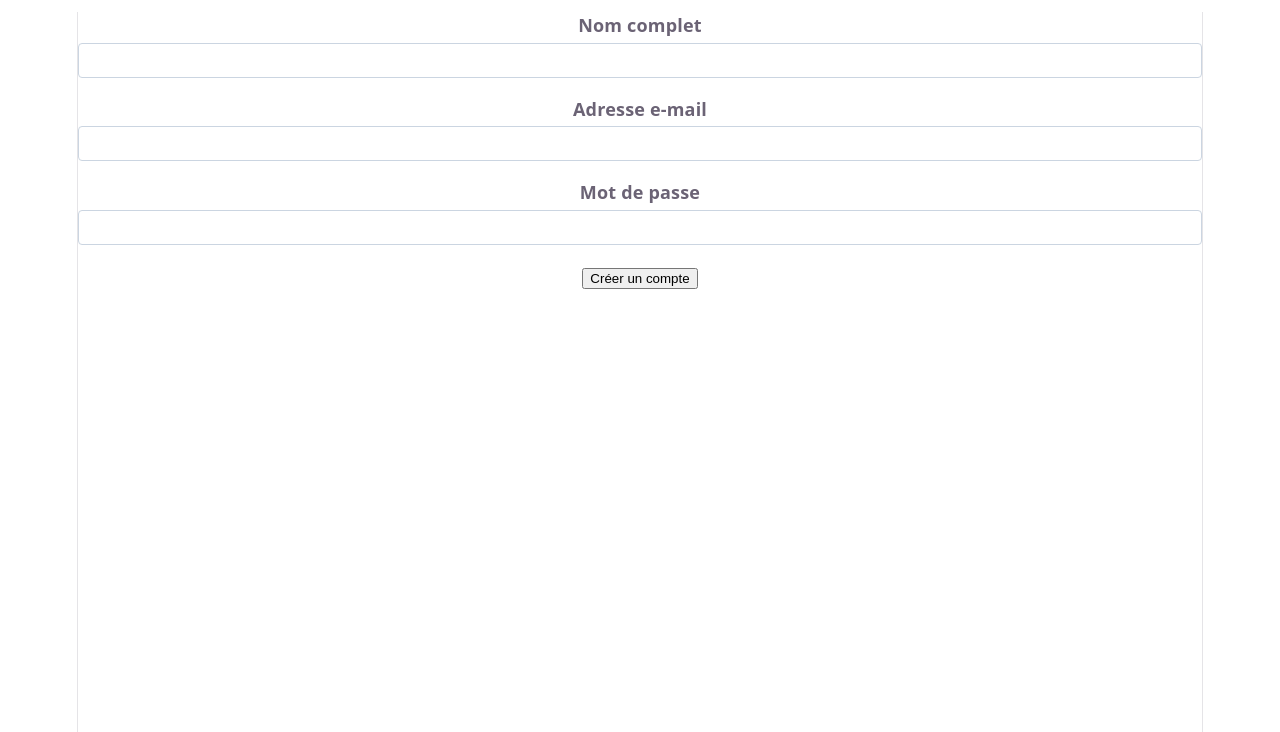
Scenario: 05-forms-zod-validation : Formulaires React Hook Form + Zod › doit bloquer la soumission et afficher les erreurs Zod si les champs sont invalides
The image size is (1280, 732).
Type "A" into the field labelled "Nom complet" at (640, 60), box 78,43 -> 1202,78
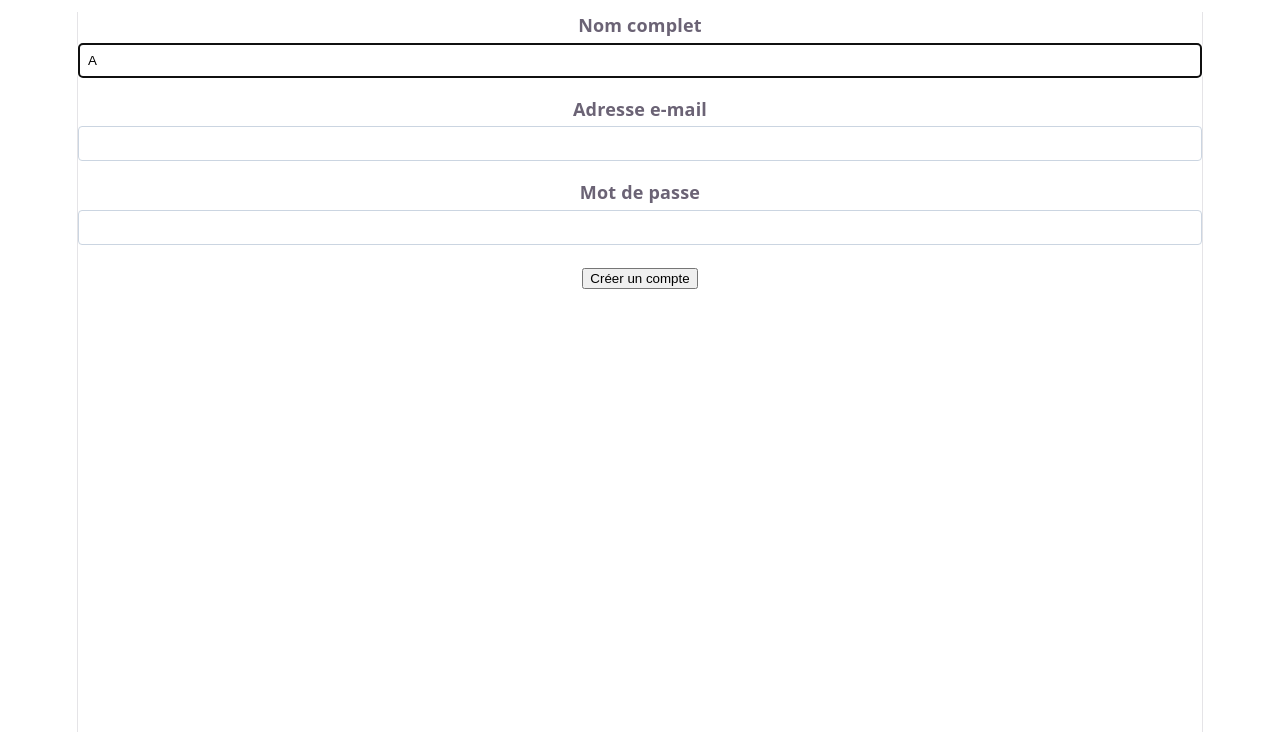
Type "email-invalide" into the field labelled "Adresse e-mail" at (640, 144), box 78,126 -> 1202,161
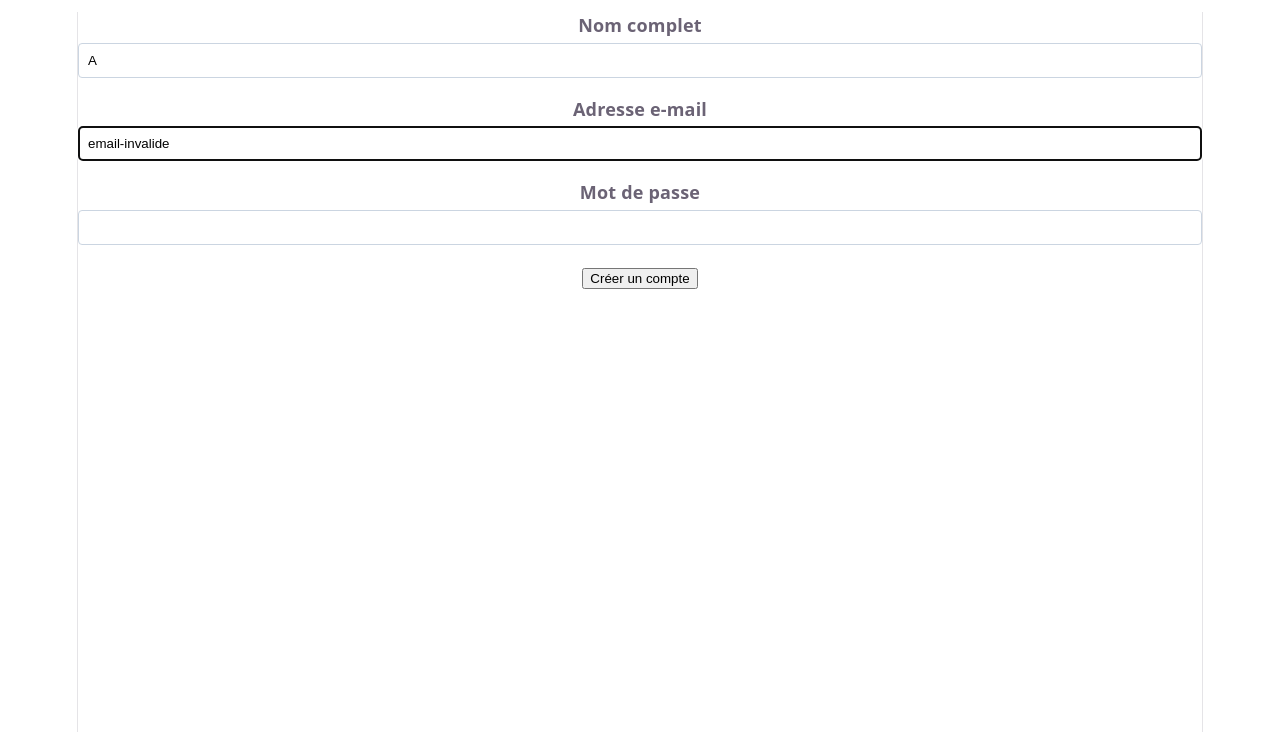
Type "123" into the password field labelled "Mot de passe" at (640, 227), box 78,210 -> 1202,245
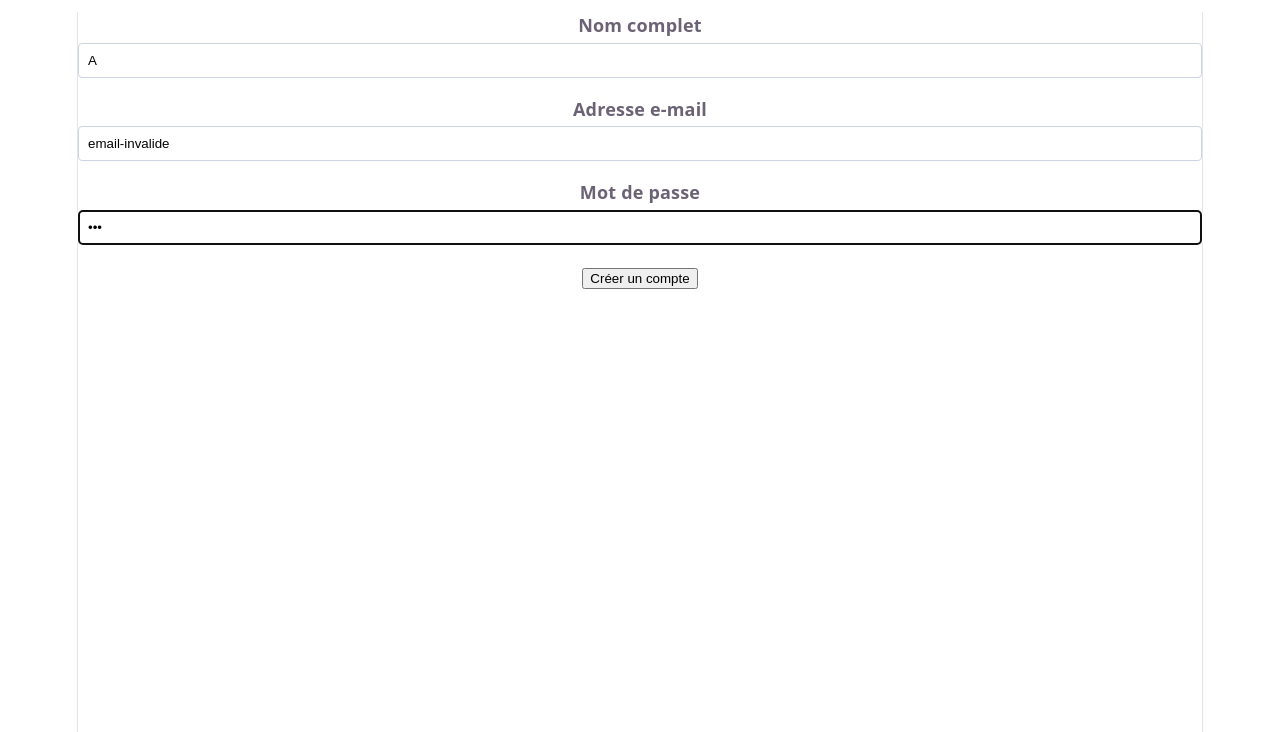
Click the button "Créer un compte" at (640, 278), box 582,268 -> 698,289
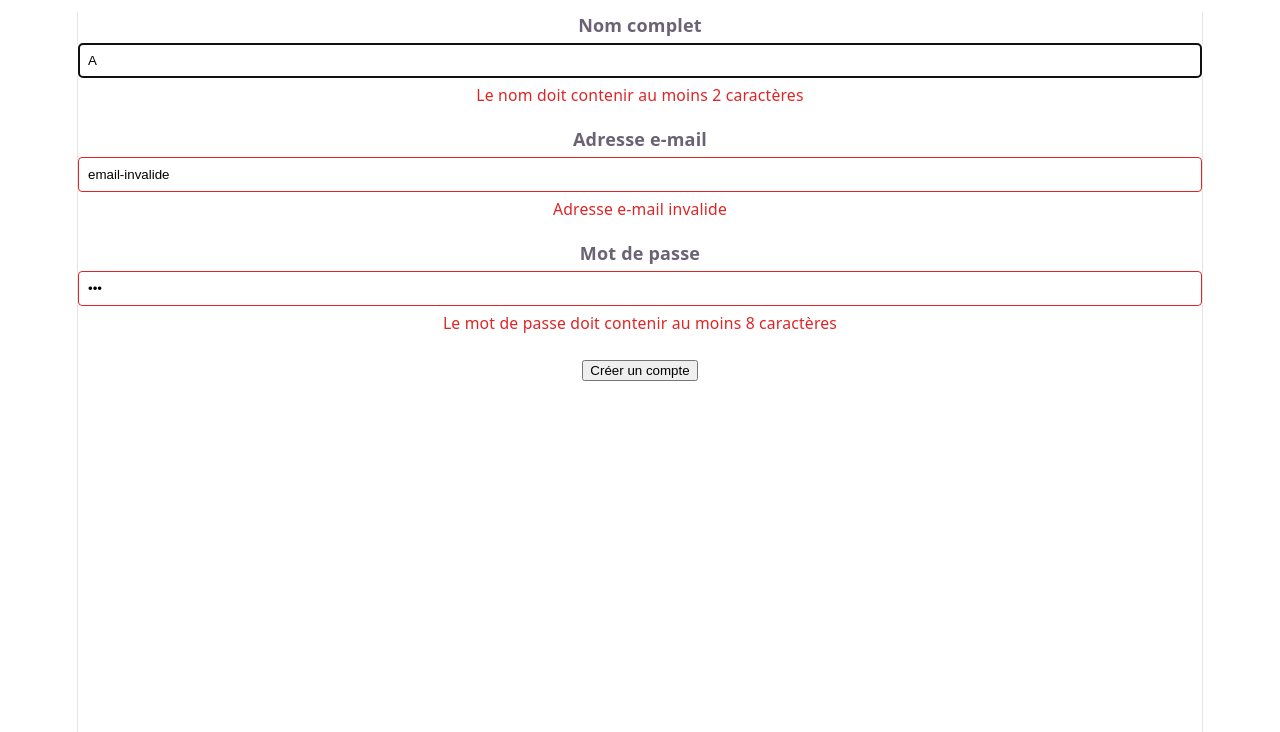
Expected: the text "Le nom doit contenir au moins 2 caractères" is shown, 476,84 -> 804,106
Expected: the text "Adresse e-mail invalide" is shown, 553,198 -> 727,220
Expected: the text "Le mot de passe doit contenir au moins 8 caractères" is shown, 443,312 -> 837,334
